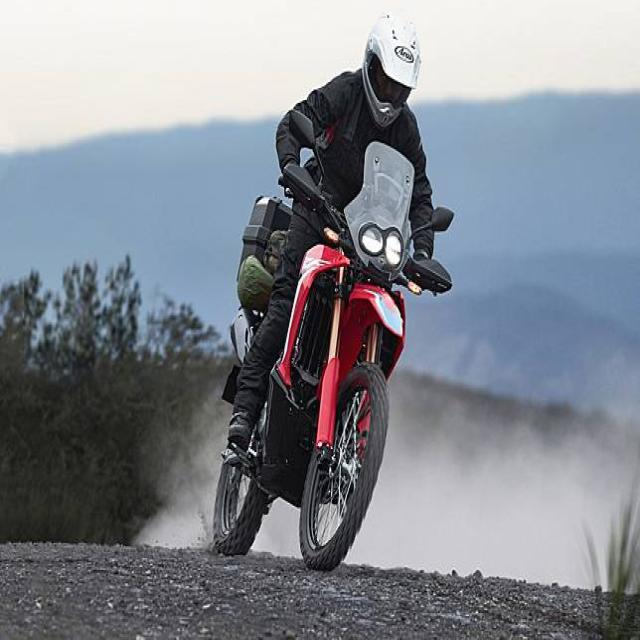Bike: (214, 143, 451, 570), (288, 111, 320, 165), (420, 206, 454, 230)
